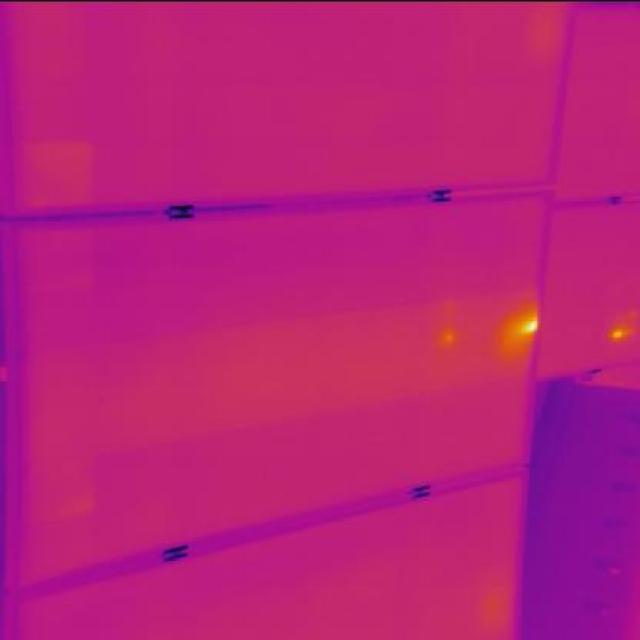hotspot: (506, 308, 543, 342), (610, 308, 638, 339)
